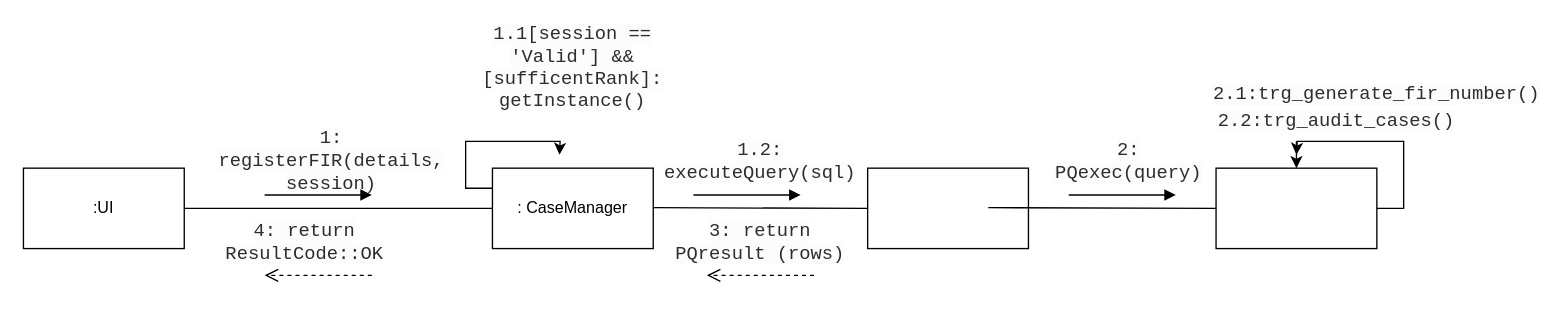
The diagram is 1564 pixels wide and 312 high, and some of its shapes have lost their labels. Here are the shapes that lost their labels. From the top down, the box of each, then its label:
(866, 167, 1028, 249): : IpcManager
(1215, 167, 1377, 249): : PostgreSQL
